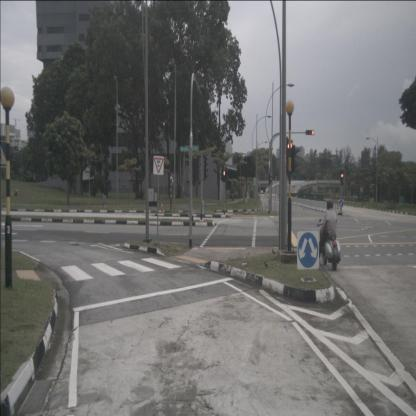movable_object-trafficcone: (160, 202, 165, 214)
vehicle-motorcycle: (316, 197, 341, 271)
